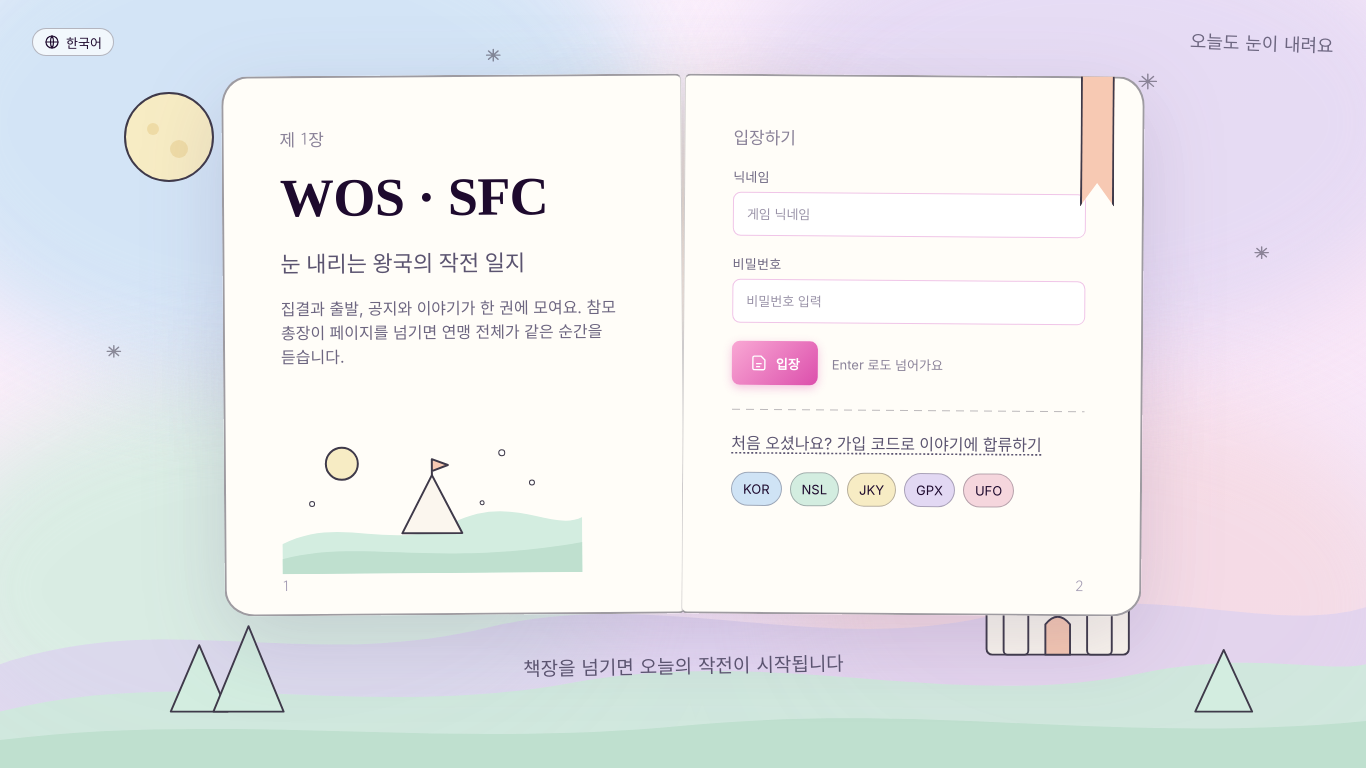
StoryEntrance › 빈 값으로 입장하면 안내를 보여주고 API 를 부르지 않는다
Click the button "입장": (775, 362) [732, 340, 818, 385]
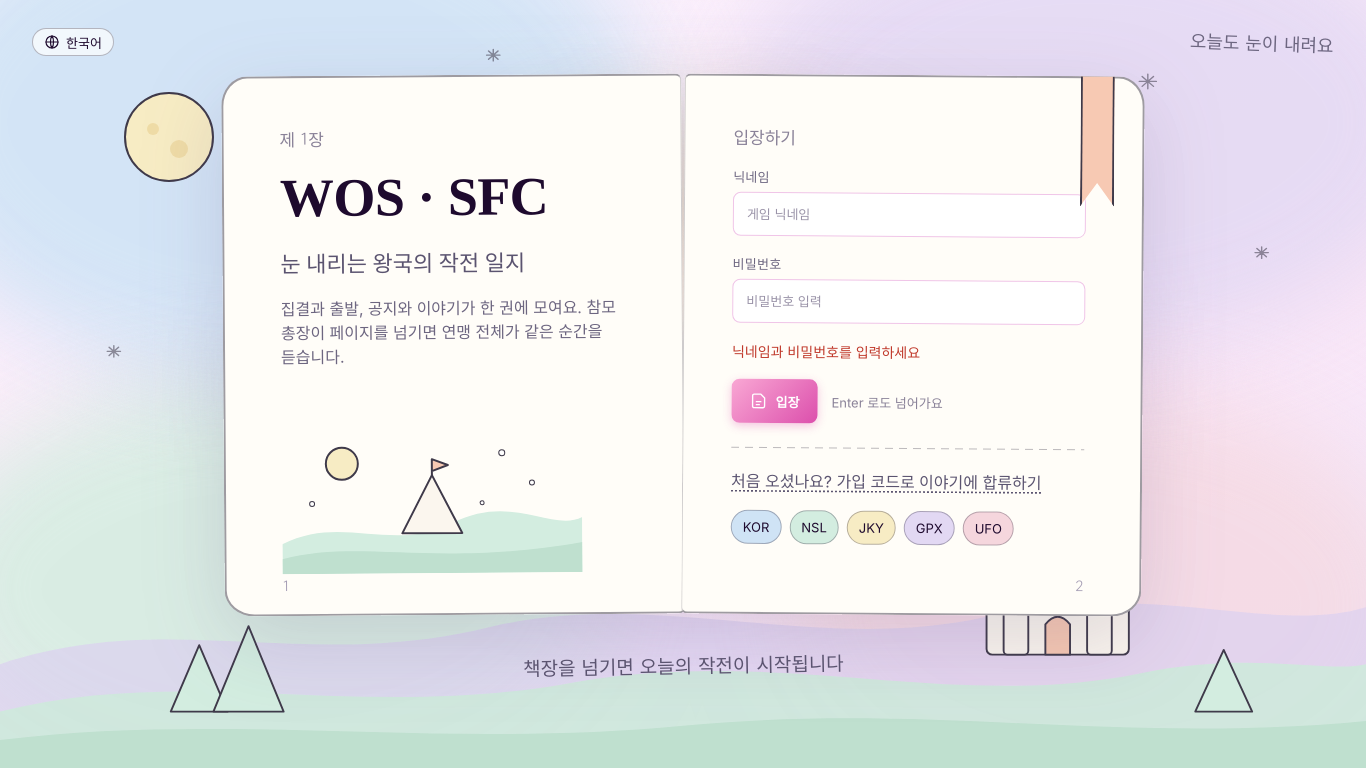
Expected: the text "닉네임과 비밀번호를 입력하세요" is shown, [732, 342, 920, 360]
